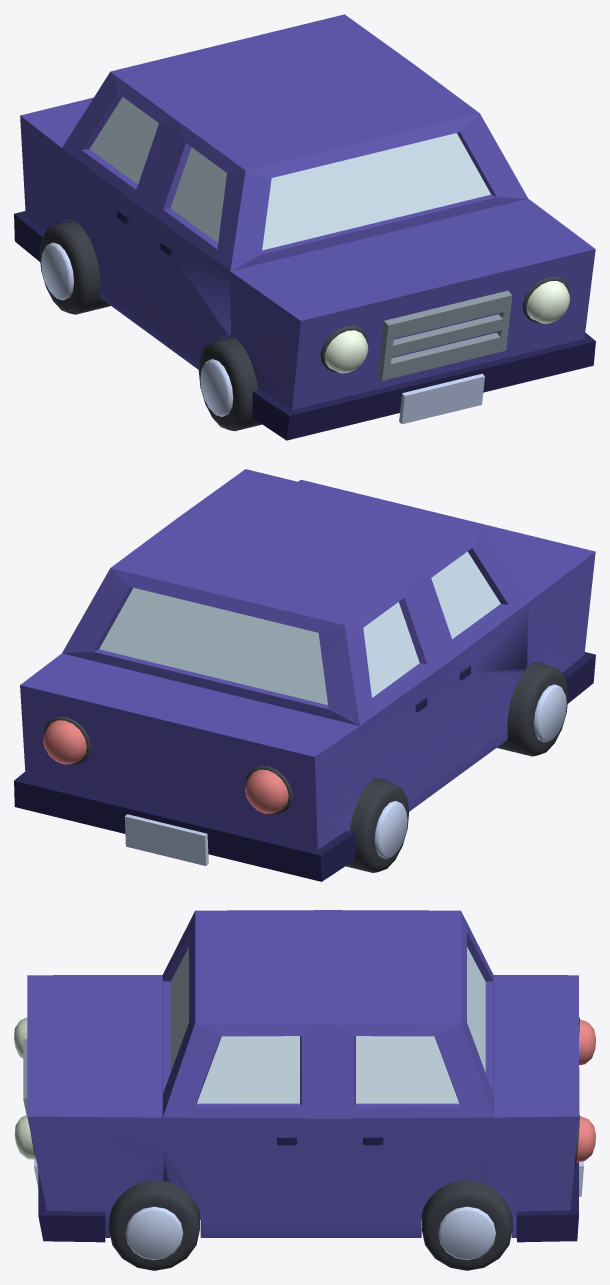
The model's file is Medium car.fbx.
3 views of the same model, one above another, from view 1: azimuth 30°, elevation 25°; view 2: azimuth 150°, elevation 25°; view 3: azimuth 270°, elevation 25° (orthographic).
Visible parts, largest first — view 1: car.002, plate.002, Wheels.002, Headlights.002; view 2: car.002, Wheels.002, tailLights.002, plate.002; view 3: car.002, Wheels.002, tailLights.002, Headlights.002, plate.002.
Part boxes in pixels (box(x1,y1,x2,y2)): car.002: box(14, 14, 595, 440); plate.002: box(378, 290, 512, 424); Wheels.002: box(39, 220, 261, 431); Headlights.002: box(320, 276, 570, 373); car.002: box(14, 469, 595, 881); Wheels.002: box(346, 662, 568, 872); tailLights.002: box(43, 716, 292, 814); plate.002: box(124, 814, 208, 865); car.002: box(27, 910, 579, 1242); Wheels.002: box(108, 1180, 512, 1270); tailLights.002: box(574, 1017, 595, 1164); Headlights.002: box(14, 1017, 36, 1159); plate.002: box(23, 1039, 583, 1196).
Bounding box in the file's own units: 235 × 154 × 355.
